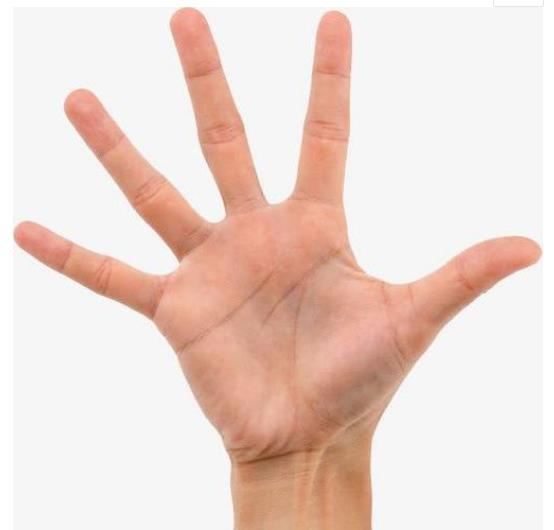down: (14, 5, 544, 474)
